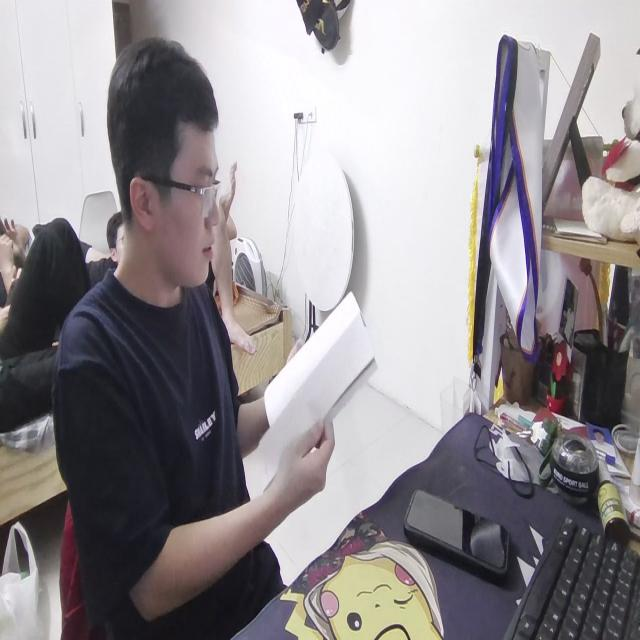book: (250, 284, 372, 487)
phone: (398, 475, 513, 593)
student: (49, 42, 338, 620)
